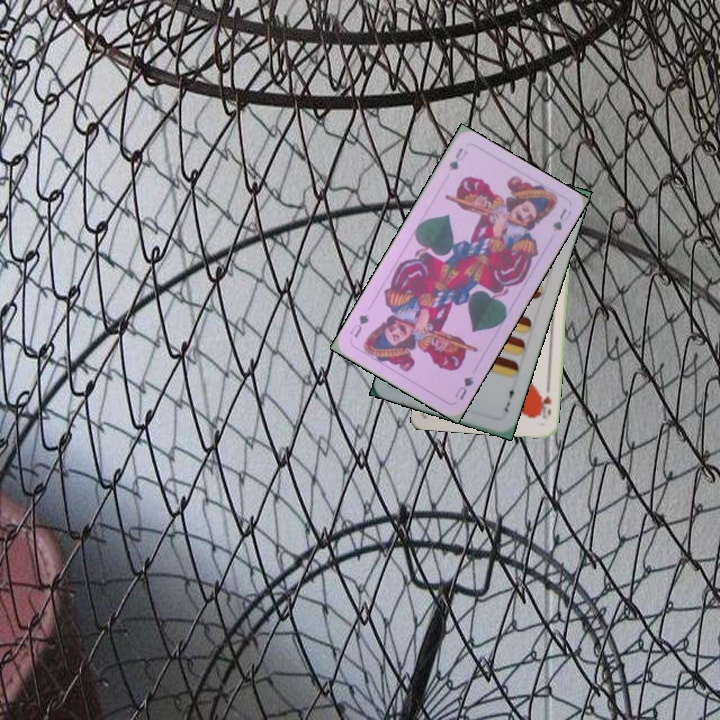E7: (500, 382, 518, 415)
GU: (444, 143, 470, 173), (451, 372, 476, 403)
HO: (535, 382, 554, 421)
